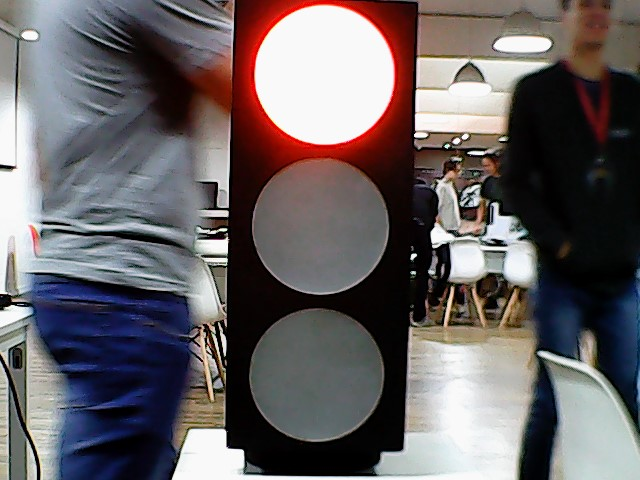vermelho: (222, 1, 423, 478)
